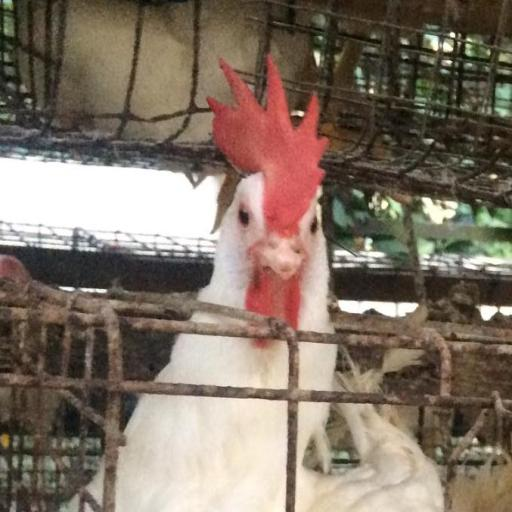healthy: (214, 85, 336, 317)
